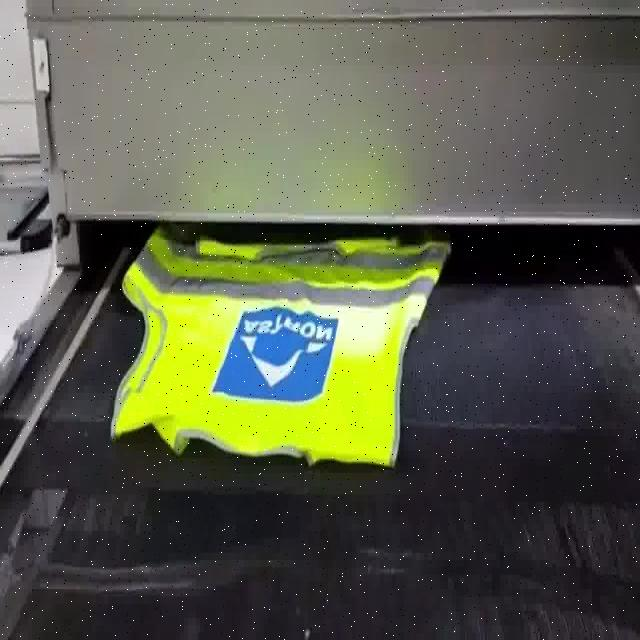Vest: (100, 7, 522, 495)
